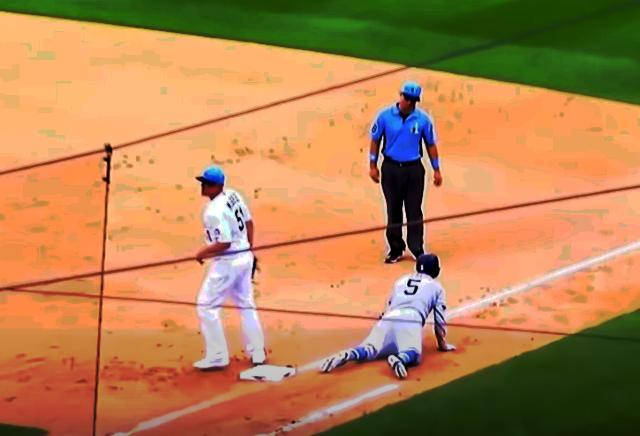jatuh: (308, 248, 458, 384)
